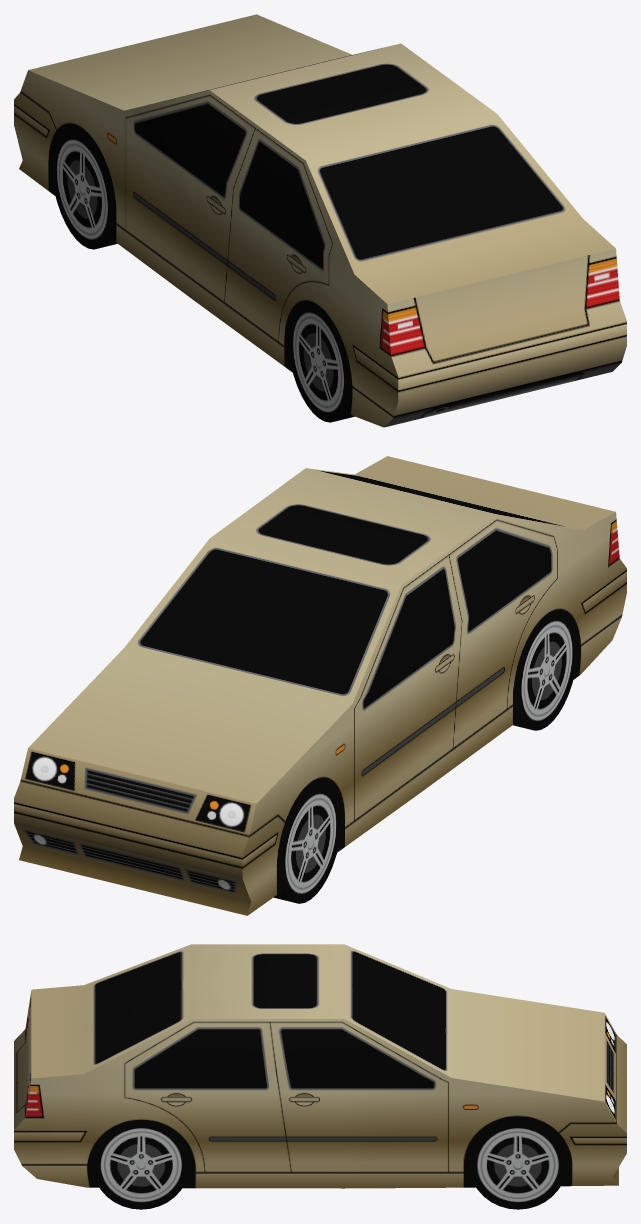
File: sedan.glb
The picture shows the model from 3 angles, top to bottom: view 1: azimuth 30°, elevation 25°; view 2: azimuth 150°, elevation 25°; view 3: azimuth 270°, elevation 25°; orthographic projection. The views are drawn at different scales.
Visible parts, largest first — view 1: Cube; view 2: Cube; view 3: Cube.
Part boxes in pixels (x1,y1,x2,y2): Cube: (14, 14, 626, 427); Cube: (14, 456, 626, 915); Cube: (14, 944, 626, 1209).
Size of the model in its own units: 1.37 by 1.32 by 4.
Materials: 1 (1 with a texture image).
